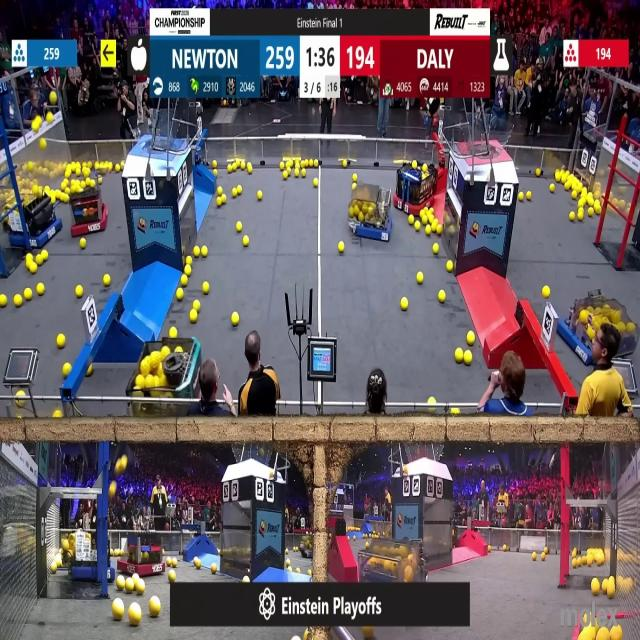ball_airborne: (33, 116, 41, 131), (49, 92, 56, 106), (108, 484, 115, 497), (120, 457, 126, 472), (46, 112, 53, 123), (40, 139, 46, 149), (29, 162, 34, 172)
ball_ground: (112, 599, 124, 620), (148, 596, 160, 616), (135, 580, 145, 596), (126, 580, 136, 594), (592, 580, 600, 596), (463, 350, 472, 364), (455, 349, 463, 363), (64, 362, 72, 376), (607, 584, 614, 600), (466, 333, 474, 346), (58, 336, 66, 349), (233, 312, 240, 326), (400, 298, 407, 312), (541, 286, 549, 298), (13, 294, 21, 306), (36, 283, 44, 295), (188, 312, 196, 324), (176, 288, 184, 300), (203, 281, 210, 294), (41, 251, 48, 264), (431, 223, 440, 233), (25, 288, 33, 299), (440, 290, 447, 302), (0, 294, 7, 306), (417, 272, 424, 284), (76, 285, 83, 297), (170, 327, 178, 337), (340, 241, 346, 254), (447, 262, 454, 273), (104, 274, 110, 286), (170, 570, 176, 582), (192, 246, 199, 256), (184, 266, 191, 276), (202, 246, 208, 257), (596, 205, 602, 216), (244, 236, 249, 248), (432, 244, 438, 254), (216, 198, 222, 208), (426, 224, 432, 234), (181, 276, 187, 286), (237, 221, 243, 231), (192, 301, 198, 311), (556, 172, 562, 182), (55, 412, 62, 420), (80, 239, 85, 250), (256, 190, 262, 199), (244, 575, 250, 584), (414, 221, 420, 230), (51, 563, 56, 573), (212, 564, 217, 574), (589, 208, 595, 216), (569, 212, 575, 220), (184, 277, 190, 285), (526, 191, 532, 199), (452, 409, 458, 417), (595, 200, 601, 208), (31, 265, 36, 274), (186, 256, 191, 264), (247, 166, 252, 174), (532, 553, 537, 561), (314, 178, 318, 187), (352, 183, 357, 190), (410, 216, 414, 224), (519, 192, 523, 200), (536, 169, 540, 177), (308, 568, 312, 576), (353, 174, 357, 182), (572, 190, 576, 198), (488, 544, 492, 551), (217, 187, 221, 194), (227, 166, 231, 173), (233, 188, 237, 195), (431, 218, 436, 223), (99, 177, 102, 184), (295, 568, 299, 572)
goal: (459, 117, 515, 158), (128, 117, 186, 152)
robot_blue: (5, 190, 61, 251), (349, 185, 392, 242), (67, 531, 99, 566)
robot_red: (128, 332, 199, 420), (395, 160, 437, 212), (69, 186, 106, 236), (124, 532, 166, 576)
